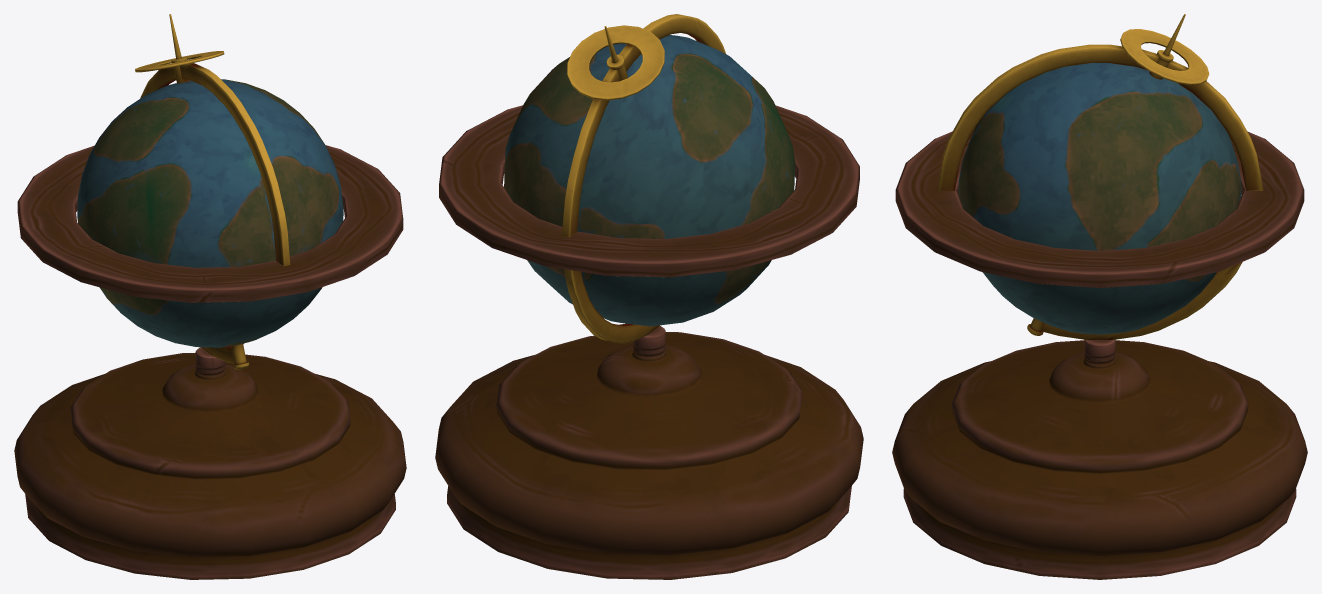
File: SM_Globe.fbx
The picture shows the model from 3 angles, left to right: view 1: azimuth 30°, elevation 25°; view 2: azimuth 150°, elevation 25°; view 3: azimuth 270°, elevation 25°; orthographic projection. The views are drawn at different scales.
Parts seen in each view (by area): view 1: SM_Globe_LOD0; view 2: SM_Globe_LOD0; view 3: SM_Globe_LOD0.
Boxes of the visible parts, box(x1,y1,x2,y2) form: SM_Globe_LOD0: box(14, 14, 406, 579); SM_Globe_LOD0: box(435, 14, 863, 579); SM_Globe_LOD0: box(892, 14, 1307, 579).
Size of what is drawn, in the model's own units: 0.8326 by 1.07 by 0.8326.
